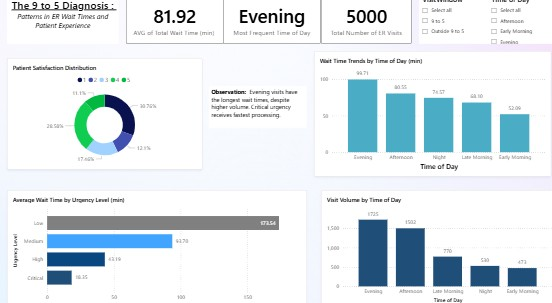

What the dashboard file says about the page in this screenshot:
{"tool":"powerbi","page":{"name":"Page 1","canvas":[1280,720],"ordinal":0},"visuals":[{"type":"columnChart","title":"Wait Time Trends by Time of Day (min)","fields":{"Category":["ER wait times.Time of Day"],"Y":["Avg(ER wait times.Total Wait Time (min))"]},"box":[720,128,544,288],"z":0},{"type":"clusteredBarChart","title":"Average Wait Time by Urgency Level (min)","fields":{"Category":["ER wait times.Urgency Level"],"Y":["Avg(ER wait times.Total Wait Time (min))"]},"box":[16,448,688,272],"z":1000},{"type":"donutChart","title":"Patient Satisfaction Distribution","fields":{"Category":["ER wait times.Patient Satisfaction"],"Y":["CountNonNull(ER wait times.Visit ID)"]},"box":[16,144,448,256],"z":2000},{"type":"slicer","fields":{"Values":["ER wait times.VisitWindow"]},"box":[960,0,160,112],"z":3000},{"type":"clusteredColumnChart","title":"Visit Volume by Time of Day","fields":{"Category":["ER wait times.Time of Day"],"Y":["Count(ER wait times.Visit ID)"]},"box":[736,448,544,272],"z":4000},{"type":"slicer","fields":{"Values":["ER wait times.Time of Day"]},"box":[1120,0,160,112],"z":5000},{"type":"card","fields":{"Values":["Avg(ER wait times.Total Wait Time (min))"]},"box":[288,0,224,112],"z":6000},{"type":"card","fields":{"Values":["CountNonNull(ER wait times.Visit ID)"]},"box":[736,0,208,112],"z":7000},{"type":"card","fields":{"Values":["ER wait times.MostCommonTimeOfDay"]},"box":[512,0,224,112],"z":8000},{"type":"textbox","box":[480,208,224,96],"z":9000},{"type":"textbox","box":[16,0,256,112],"z":10000}]}

Visuals, with their boxes in screenshot pixels (x1, y1, x2, y2), scaled from the page's 1280x720 canvas onto the 552x303 screenshot:
"Wait Time Trends by Time of Day (min)" columnChart: 310,54,545,175
"Average Wait Time by Urgency Level (min)" clusteredBarChart: 7,189,304,302
"Patient Satisfaction Distribution" donutChart: 7,61,200,168
slicer - ER wait times.VisitWindow: 414,0,483,47
"Visit Volume by Time of Day" clusteredColumnChart: 317,189,551,302
slicer - ER wait times.Time of Day: 483,0,551,47
card - Avg(ER wait times.Total Wait Time (min)): 124,0,221,47
card - CountNonNull(ER wait times.Visit ID): 317,0,407,47
card - ER wait times.MostCommonTimeOfDay: 221,0,317,47
textbox: 207,88,304,128
textbox: 7,0,117,47
